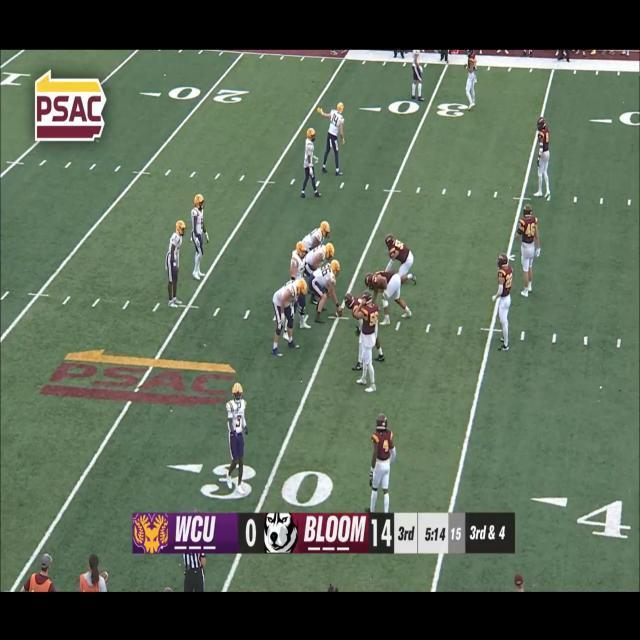football: (335, 302, 343, 318)
